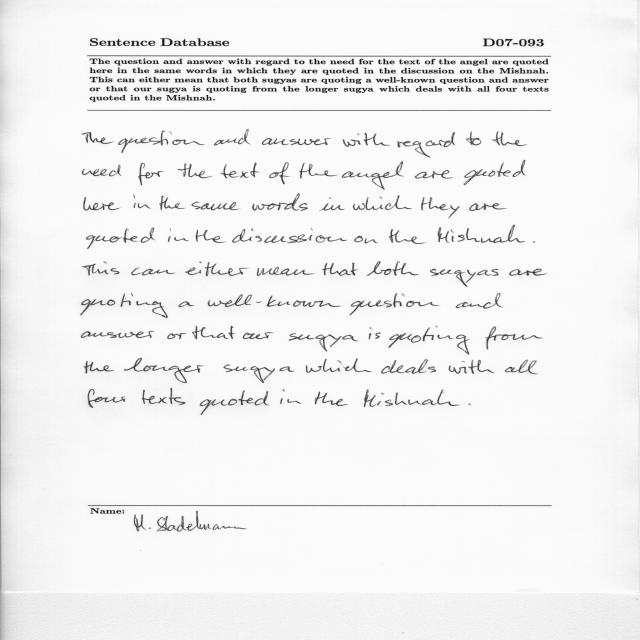word: (131, 293, 341, 318), (388, 326, 470, 354), (124, 358, 204, 383), (350, 294, 439, 316), (118, 131, 205, 153), (342, 161, 403, 190), (364, 389, 460, 407), (232, 228, 347, 243), (200, 390, 269, 415), (438, 225, 525, 243), (464, 160, 526, 185), (87, 227, 155, 249), (397, 132, 455, 157), (485, 327, 543, 350), (224, 365, 294, 383), (430, 269, 499, 287), (289, 334, 358, 352), (306, 358, 371, 373), (252, 194, 308, 211), (353, 195, 412, 210), (185, 262, 248, 276), (421, 197, 460, 219), (381, 359, 436, 374), (367, 261, 419, 276), (456, 293, 502, 309), (142, 388, 185, 405), (89, 389, 126, 408), (221, 162, 260, 179), (343, 133, 390, 147), (449, 360, 495, 374), (214, 129, 250, 145), (300, 163, 338, 178), (192, 326, 235, 339), (389, 229, 426, 244), (139, 163, 164, 185), (81, 300, 115, 316), (492, 131, 528, 146), (178, 164, 213, 179), (257, 267, 314, 276), (82, 331, 155, 338), (83, 262, 119, 276), (505, 360, 538, 375), (262, 138, 331, 145), (83, 165, 122, 177), (84, 197, 120, 210), (322, 263, 358, 276), (315, 392, 348, 406), (269, 162, 289, 184), (195, 230, 226, 243), (191, 202, 240, 210), (84, 361, 114, 374), (82, 132, 114, 144), (159, 196, 186, 210), (131, 268, 175, 276), (415, 170, 453, 179), (319, 198, 345, 211), (280, 389, 302, 404), (470, 203, 507, 211), (168, 228, 189, 242), (509, 269, 547, 276), (133, 195, 151, 209), (466, 132, 481, 146), (243, 332, 273, 339), (354, 236, 378, 243), (369, 328, 381, 340), (120, 294, 131, 307), (167, 333, 186, 339), (533, 241, 535, 243), (469, 403, 471, 405)
